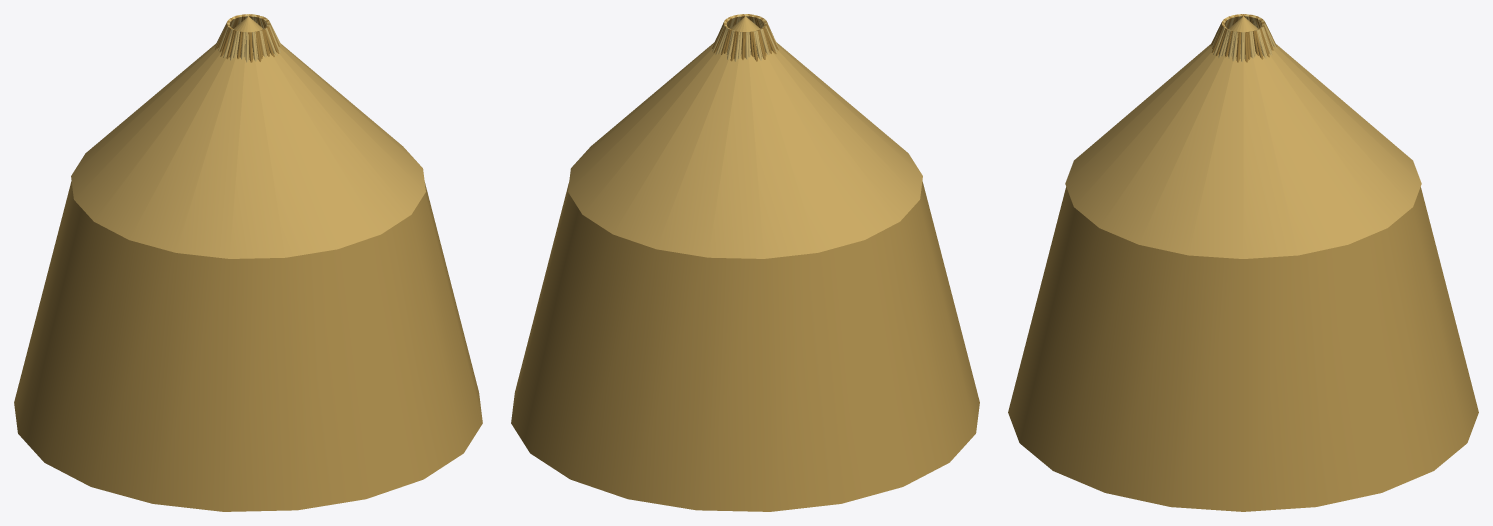
File: LV_DONG_ROM_01.glb
3 renders of one model, left to right at view 1: azimuth 30°, elevation 25°; view 2: azimuth 150°, elevation 25°; view 3: azimuth 270°, elevation 25°, orthographic.
Parts seen in each view (by area): view 1: LV_DONG_ROM_01-surface-bf9c52, LV_DONG_ROM_01-surface-c7a65e, LV_DONG_ROM_01-surface-a7823e, LV_DONG_ROM_01-surface-d1b46e; view 2: LV_DONG_ROM_01-surface-bf9c52, LV_DONG_ROM_01-surface-c7a65e, LV_DONG_ROM_01-surface-a7823e, LV_DONG_ROM_01-surface-d1b46e; view 3: LV_DONG_ROM_01-surface-bf9c52, LV_DONG_ROM_01-surface-c7a65e, LV_DONG_ROM_01-surface-d1b46e, LV_DONG_ROM_01-surface-a7823e.
Part boxes in pixels (left/top/right/bottom): LV_DONG_ROM_01-surface-bf9c52: left=14, top=181, right=482, bottom=511; LV_DONG_ROM_01-surface-c7a65e: left=71, top=16, right=425, bottom=258; LV_DONG_ROM_01-surface-a7823e: left=215, top=14, right=279, bottom=62; LV_DONG_ROM_01-surface-d1b46e: left=214, top=14, right=281, bottom=62; LV_DONG_ROM_01-surface-bf9c52: left=511, top=181, right=979, bottom=511; LV_DONG_ROM_01-surface-c7a65e: left=568, top=16, right=922, bottom=258; LV_DONG_ROM_01-surface-a7823e: left=712, top=14, right=778, bottom=61; LV_DONG_ROM_01-surface-d1b46e: left=712, top=14, right=779, bottom=61; LV_DONG_ROM_01-surface-bf9c52: left=1008, top=187, right=1478, bottom=511; LV_DONG_ROM_01-surface-c7a65e: left=1065, top=16, right=1421, bottom=258; LV_DONG_ROM_01-surface-d1b46e: left=1211, top=14, right=1276, bottom=62; LV_DONG_ROM_01-surface-a7823e: left=1210, top=14, right=1276, bottom=62.
Size of the model in its own units: 2.8 by 2.6 by 2.8.
